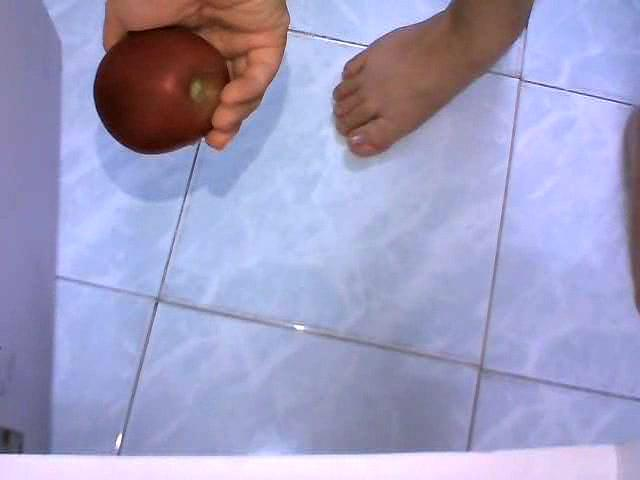apple: (91, 23, 232, 156)
